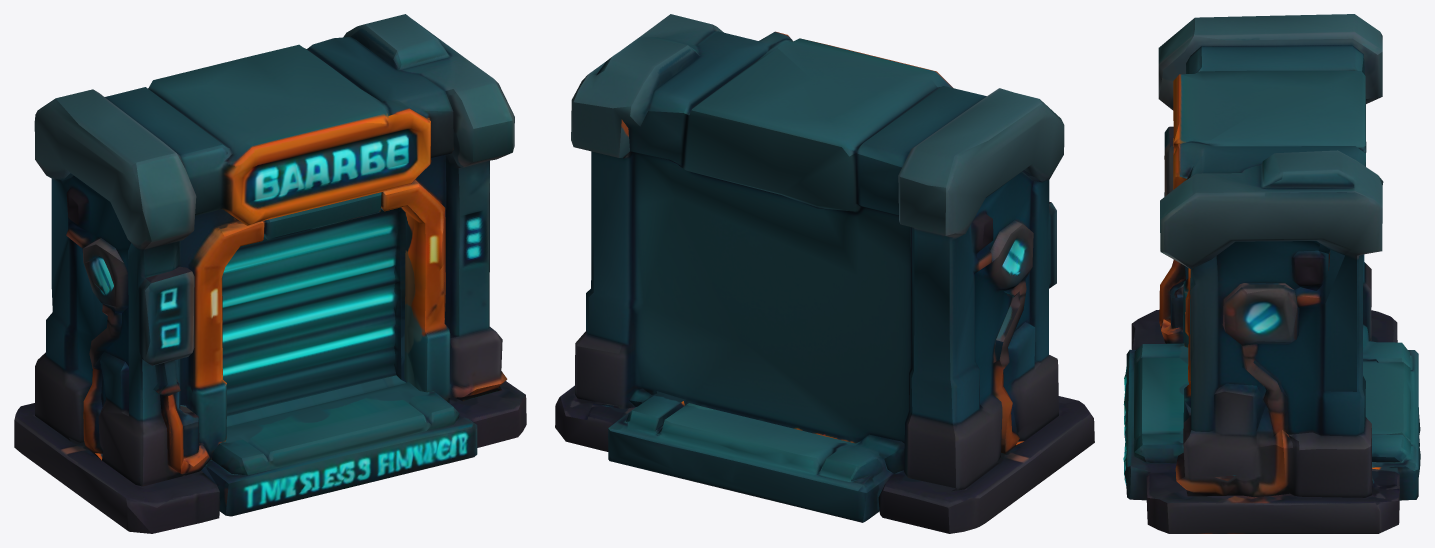
File: NewBG1.fbx
3 views of the same model, side by side, from view 1: azimuth 30°, elevation 25°; view 2: azimuth 150°, elevation 25°; view 3: azimuth 270°, elevation 25° (orthographic). The views are drawn at different scales.
Parts seen in each view (by area): view 1: tmpp3k5phqc.ply; view 2: tmpp3k5phqc.ply; view 3: tmpp3k5phqc.ply.
Part boxes in pixels (x1,y1,x2,y2): tmpp3k5phqc.ply: (14,14,526,533); tmpp3k5phqc.ply: (555,14,1094,533); tmpp3k5phqc.ply: (1123,14,1420,533).
Size of the model in its own units: 199 by 165 by 128.
Materials: 1 (1 with a texture image).
